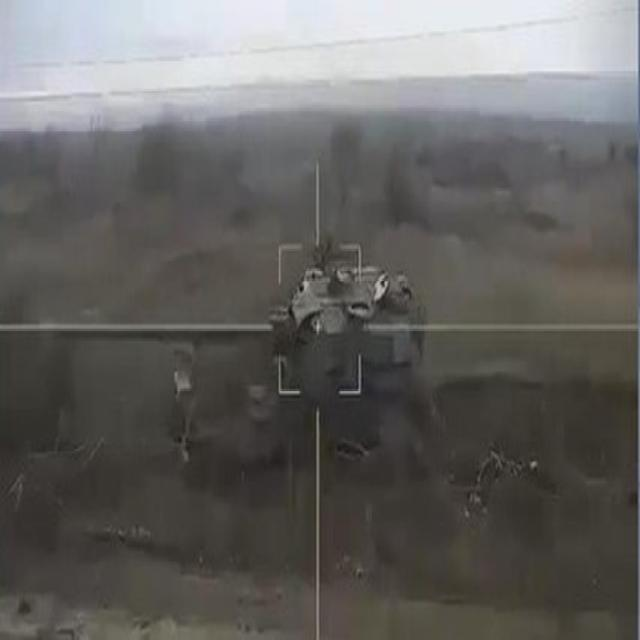ART: (162, 256, 426, 500)
